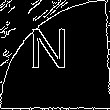N_S: (34, 29, 76, 81)
